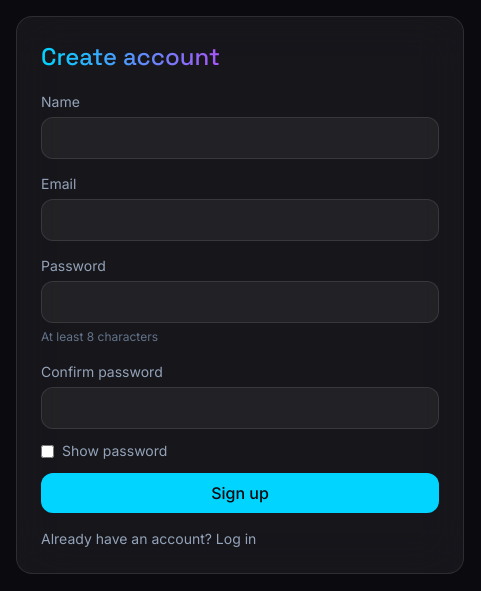
it: Register page › blocks submit and warns when the password is too short
Expected: the text "Create account" is shown, left=41, top=41, right=220, bottom=72
Type "Ada Lovelace" into the field labelled "Name".
click(240, 138); type("Ada Lovelace")  # box left=41, top=117, right=439, bottom=159
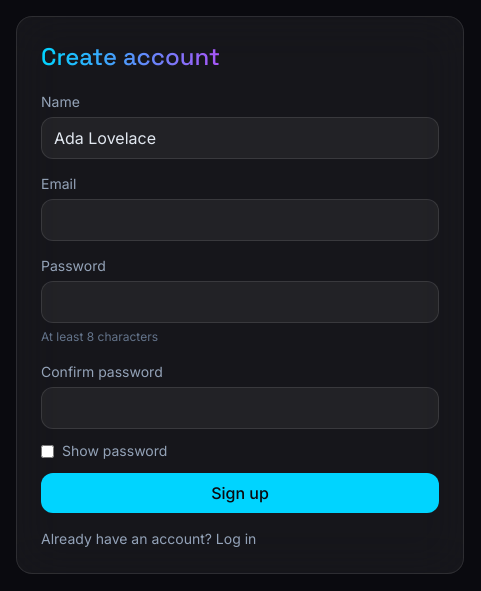
Type "ada@x.io" into the field labelled "Email".
click(240, 220); type("ada@x.io")  # box left=41, top=199, right=439, bottom=241
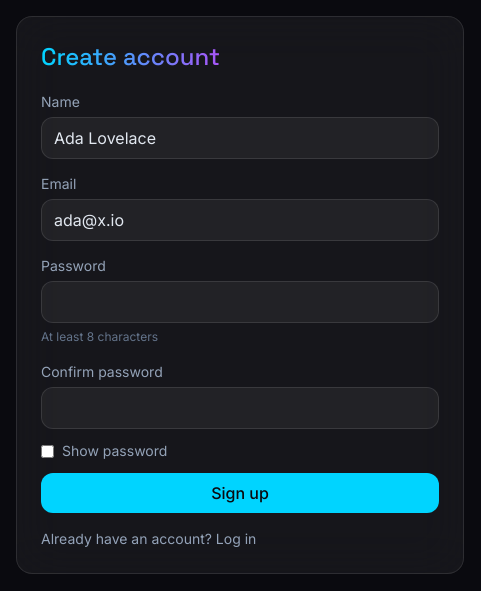
Type "short" into the password field labelled "Password".
click(240, 302); type("short")  # box left=41, top=281, right=439, bottom=323
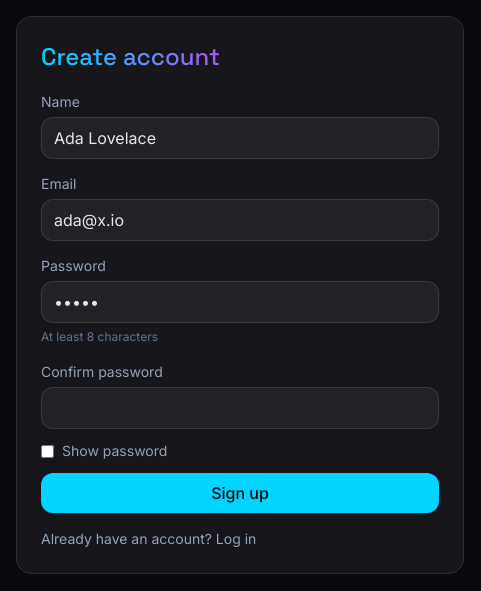
Type "short" into the password field labelled "Confirm password".
click(240, 408); type("short")  # box left=41, top=387, right=439, bottom=429
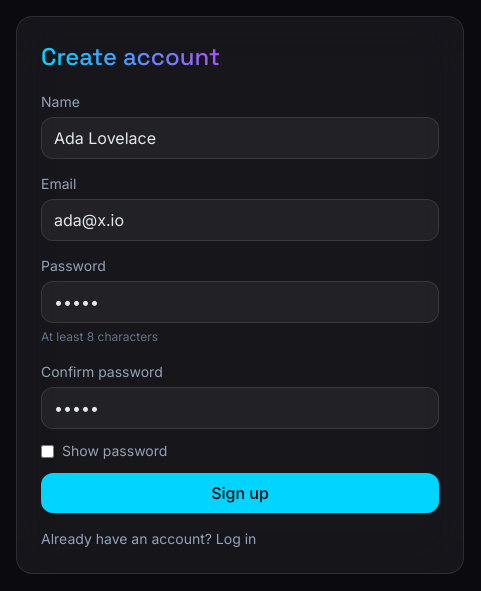
Click the button "Sign up".
click(240, 493)  # box left=41, top=473, right=439, bottom=513
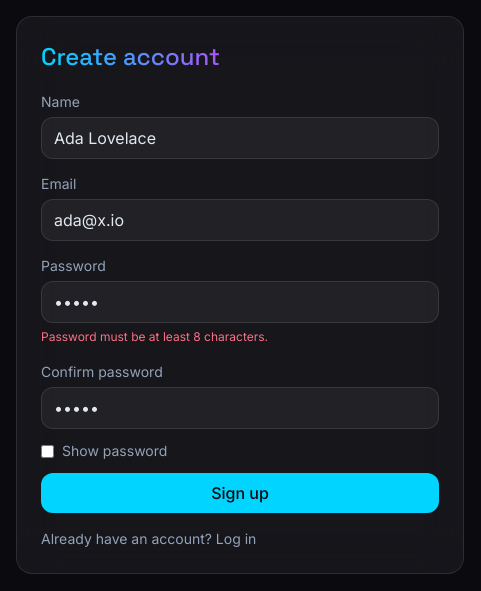
Expected: the message shows "at least 8 characters", left=41, top=329, right=268, bottom=344
